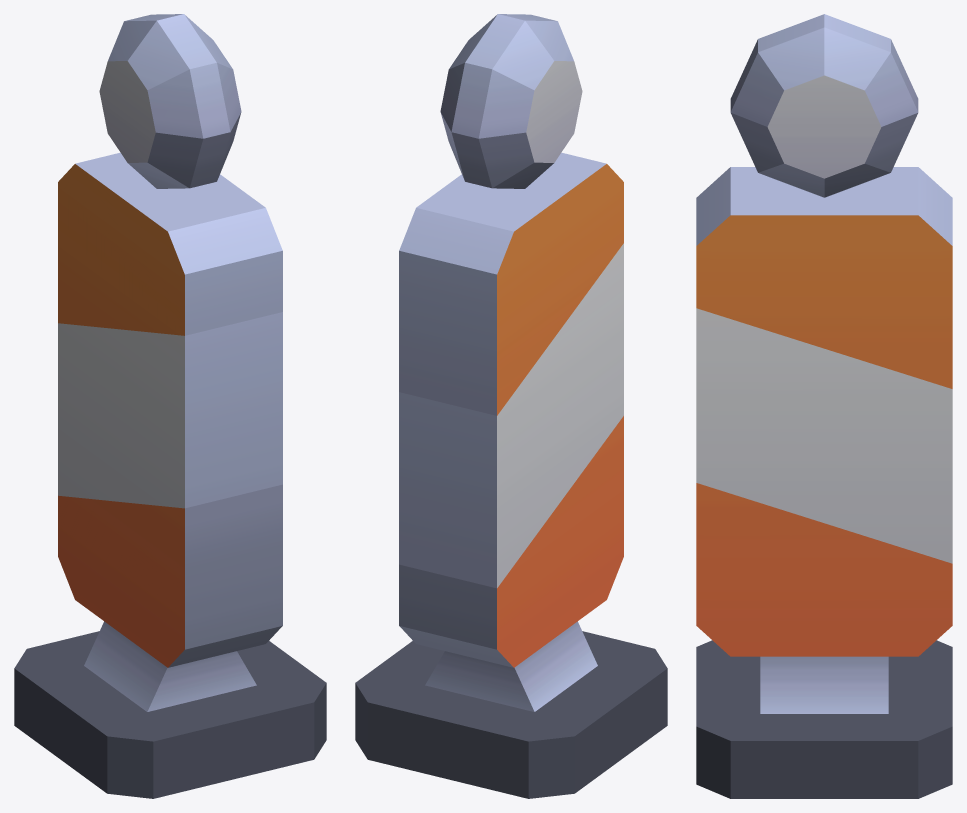
File: roads__construction-light.glb
3 views of the same model, side by side, from view 1: azimuth 30°, elevation 25°; view 2: azimuth 150°, elevation 25°; view 3: azimuth 270°, elevation 25° (orthographic).
Visible parts, largest first — view 1: construction-light; view 2: construction-light; view 3: construction-light.
Boxes of the visible parts, x1=… form: construction-light: x1=14, y1=14, x2=326, y2=798; construction-light: x1=355, y1=14, x2=667, y2=798; construction-light: x1=696, y1=14, x2=952, y2=798.
Size of the model in its own units: 0.075 by 0.2337 by 0.075.
Materials: 1 (1 with a texture image).
